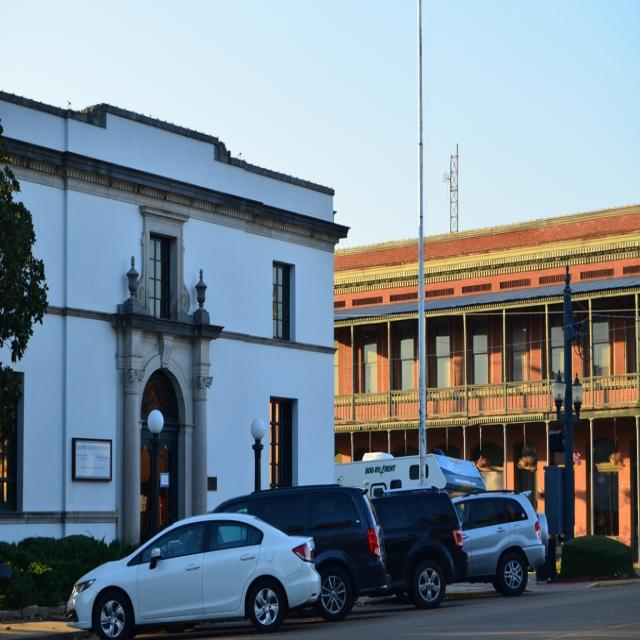car: (63, 515, 321, 635)
